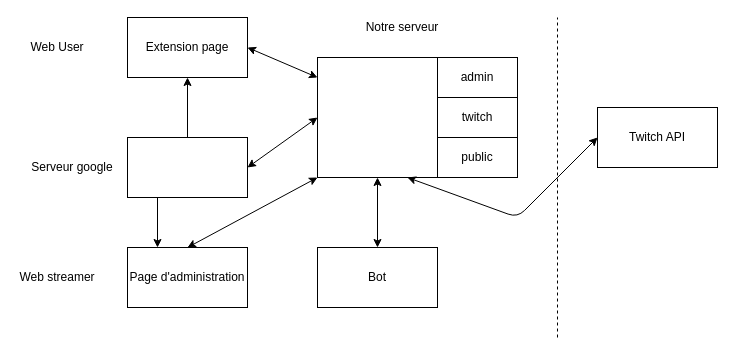
This 735x356 diagram has some shape labels left out. The shapes that lost their labels are listed below. From the top down, each one's centre as x and y in pixels, then its label:
At point 377,117: "API".
At point 187,167: "Firebase".
